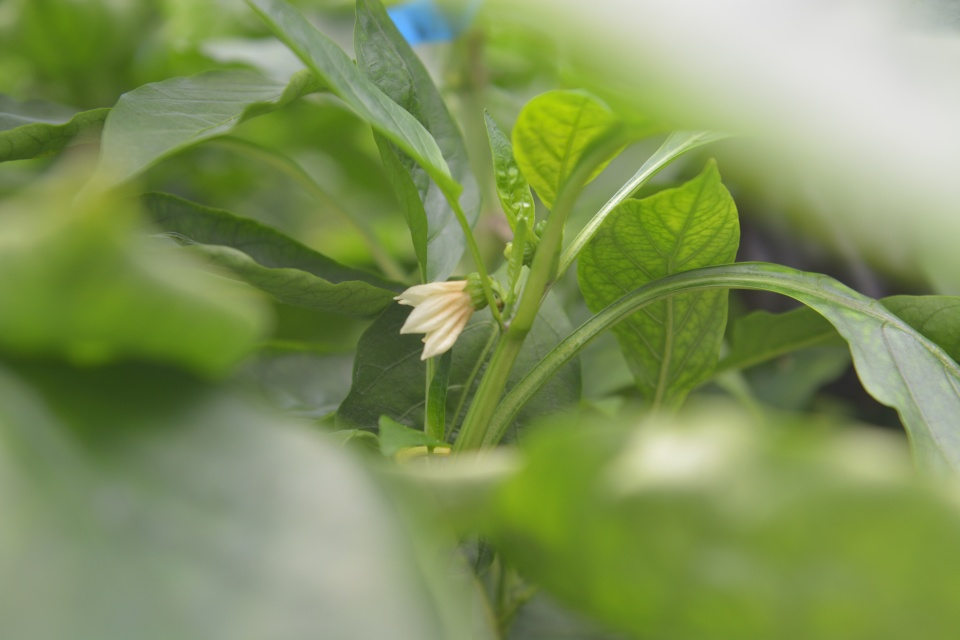flower: (390, 274, 476, 361)
